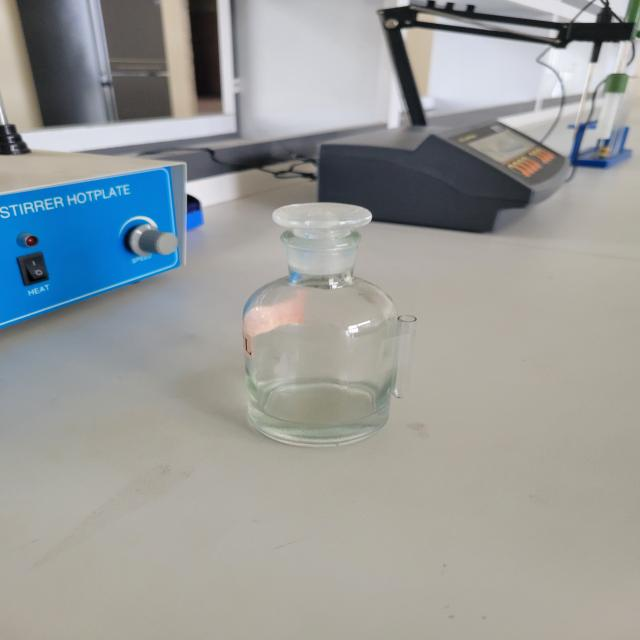Reagent_Bottle: (215, 165, 430, 465)
